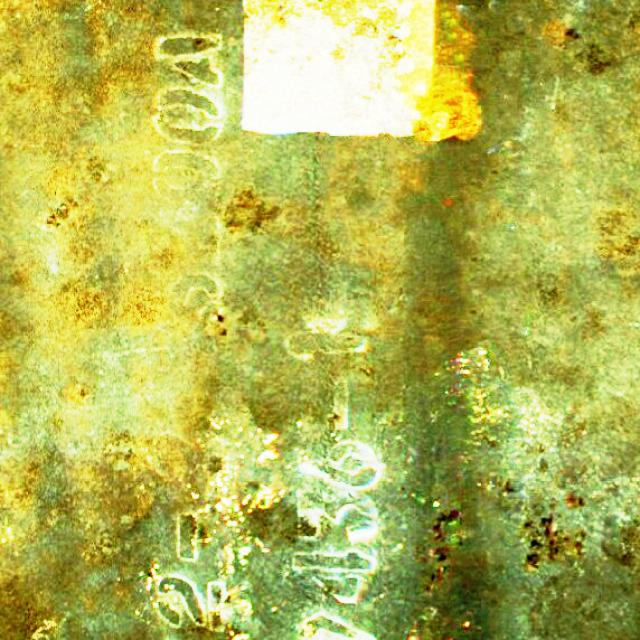Corrosion: (414, 84, 478, 141)
